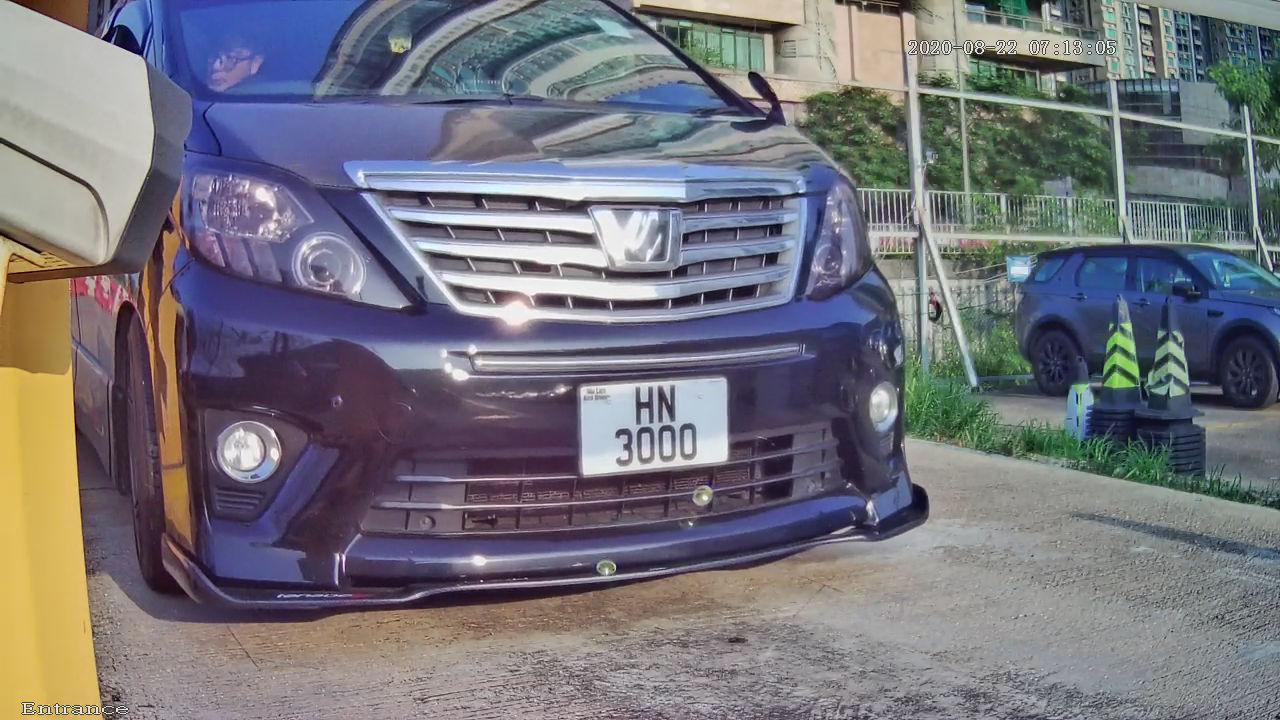Car: (41, 1, 983, 663)
License Plate: (566, 354, 749, 492)
